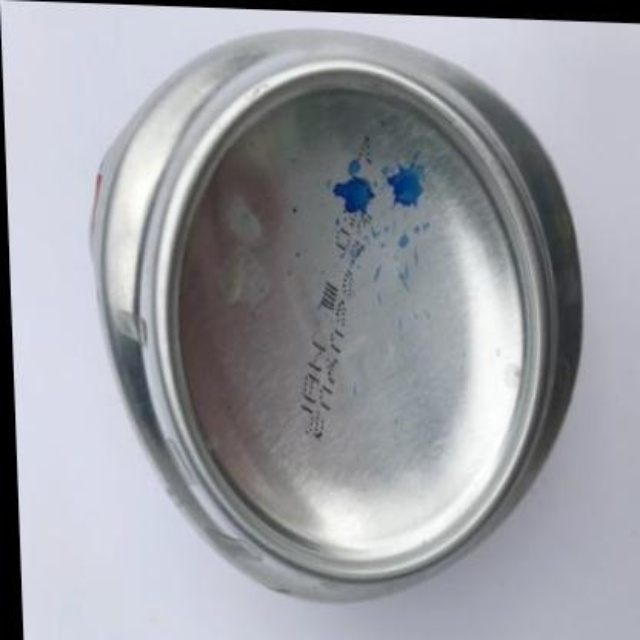trash: (92, 31, 580, 597)
